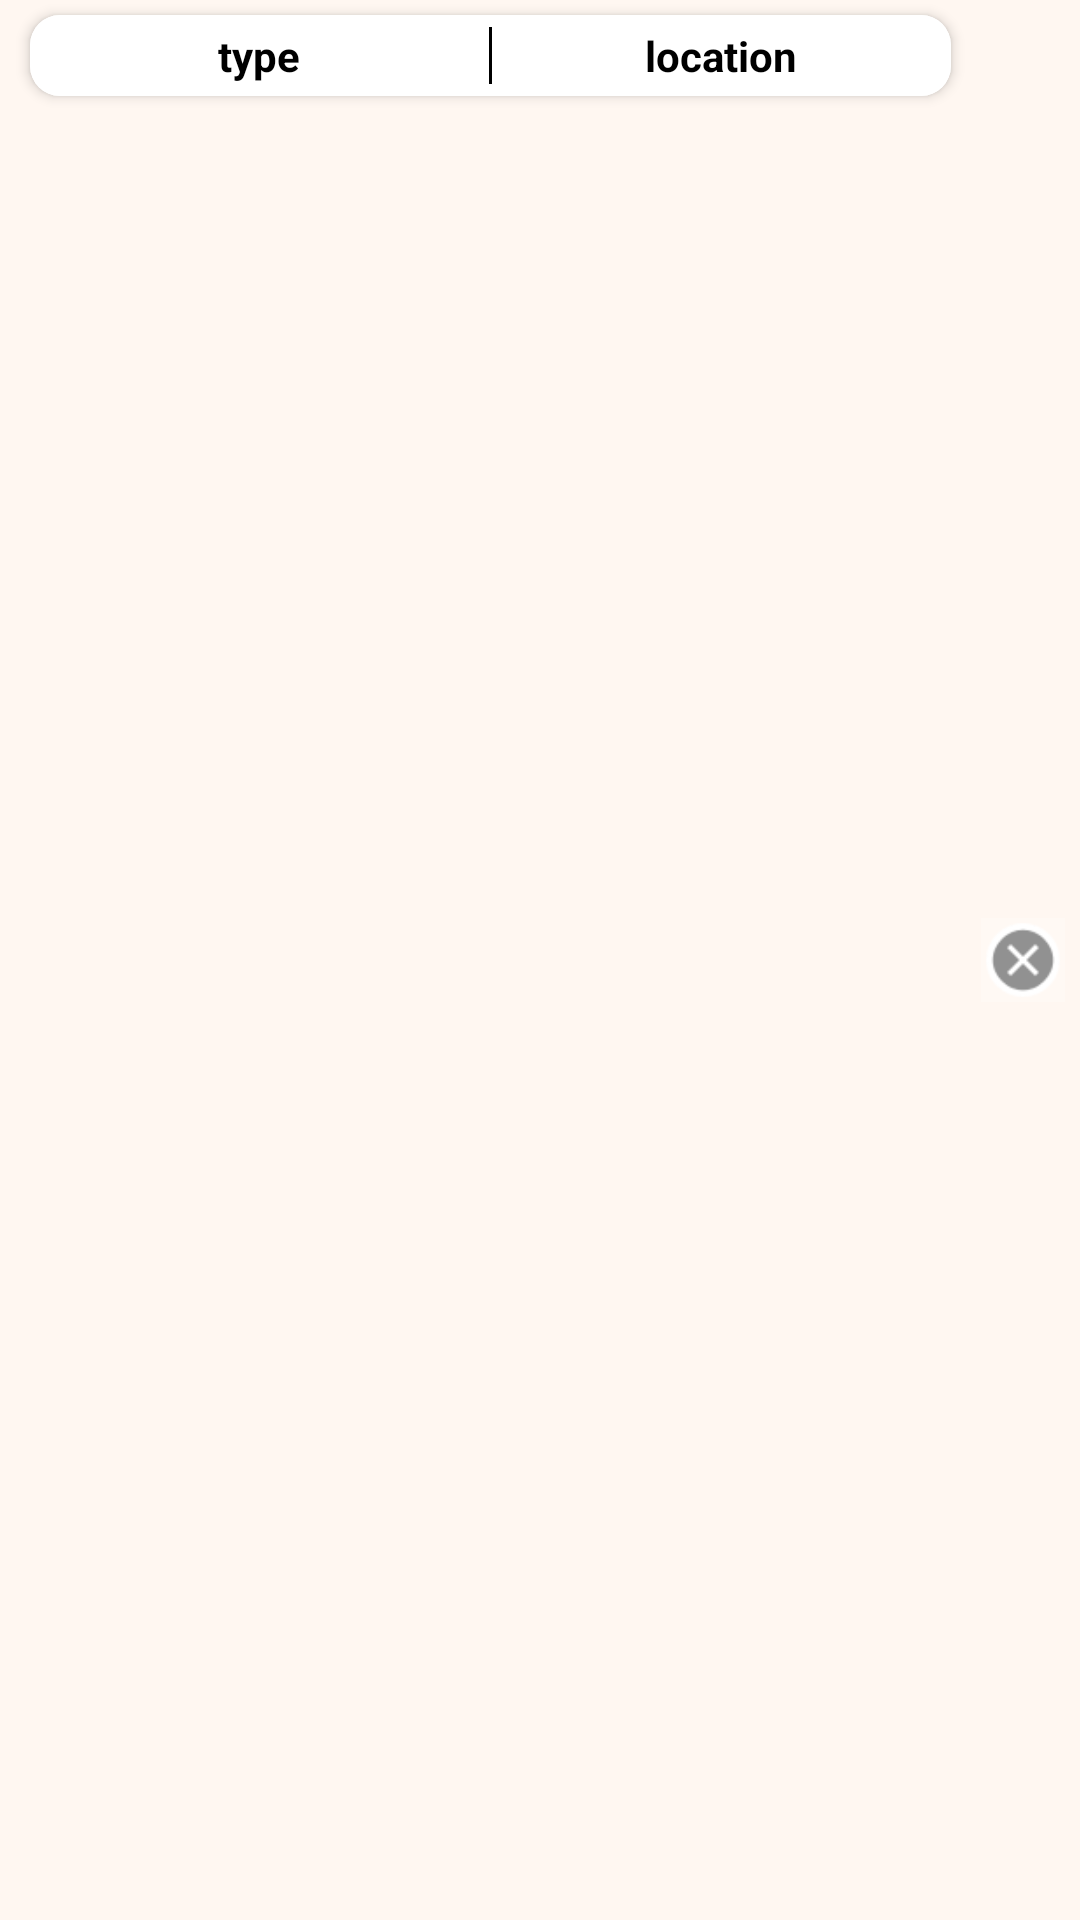

Where to tap for icons on this 1080 × 1920 app screen, as point (x, y):
presence offline: point (1023, 960)
